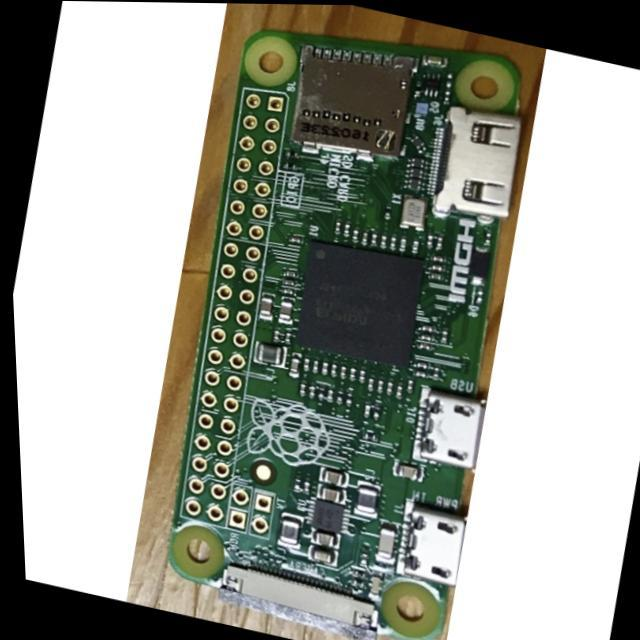Raspberry-Pi-Zero: (169, 32, 520, 640)
